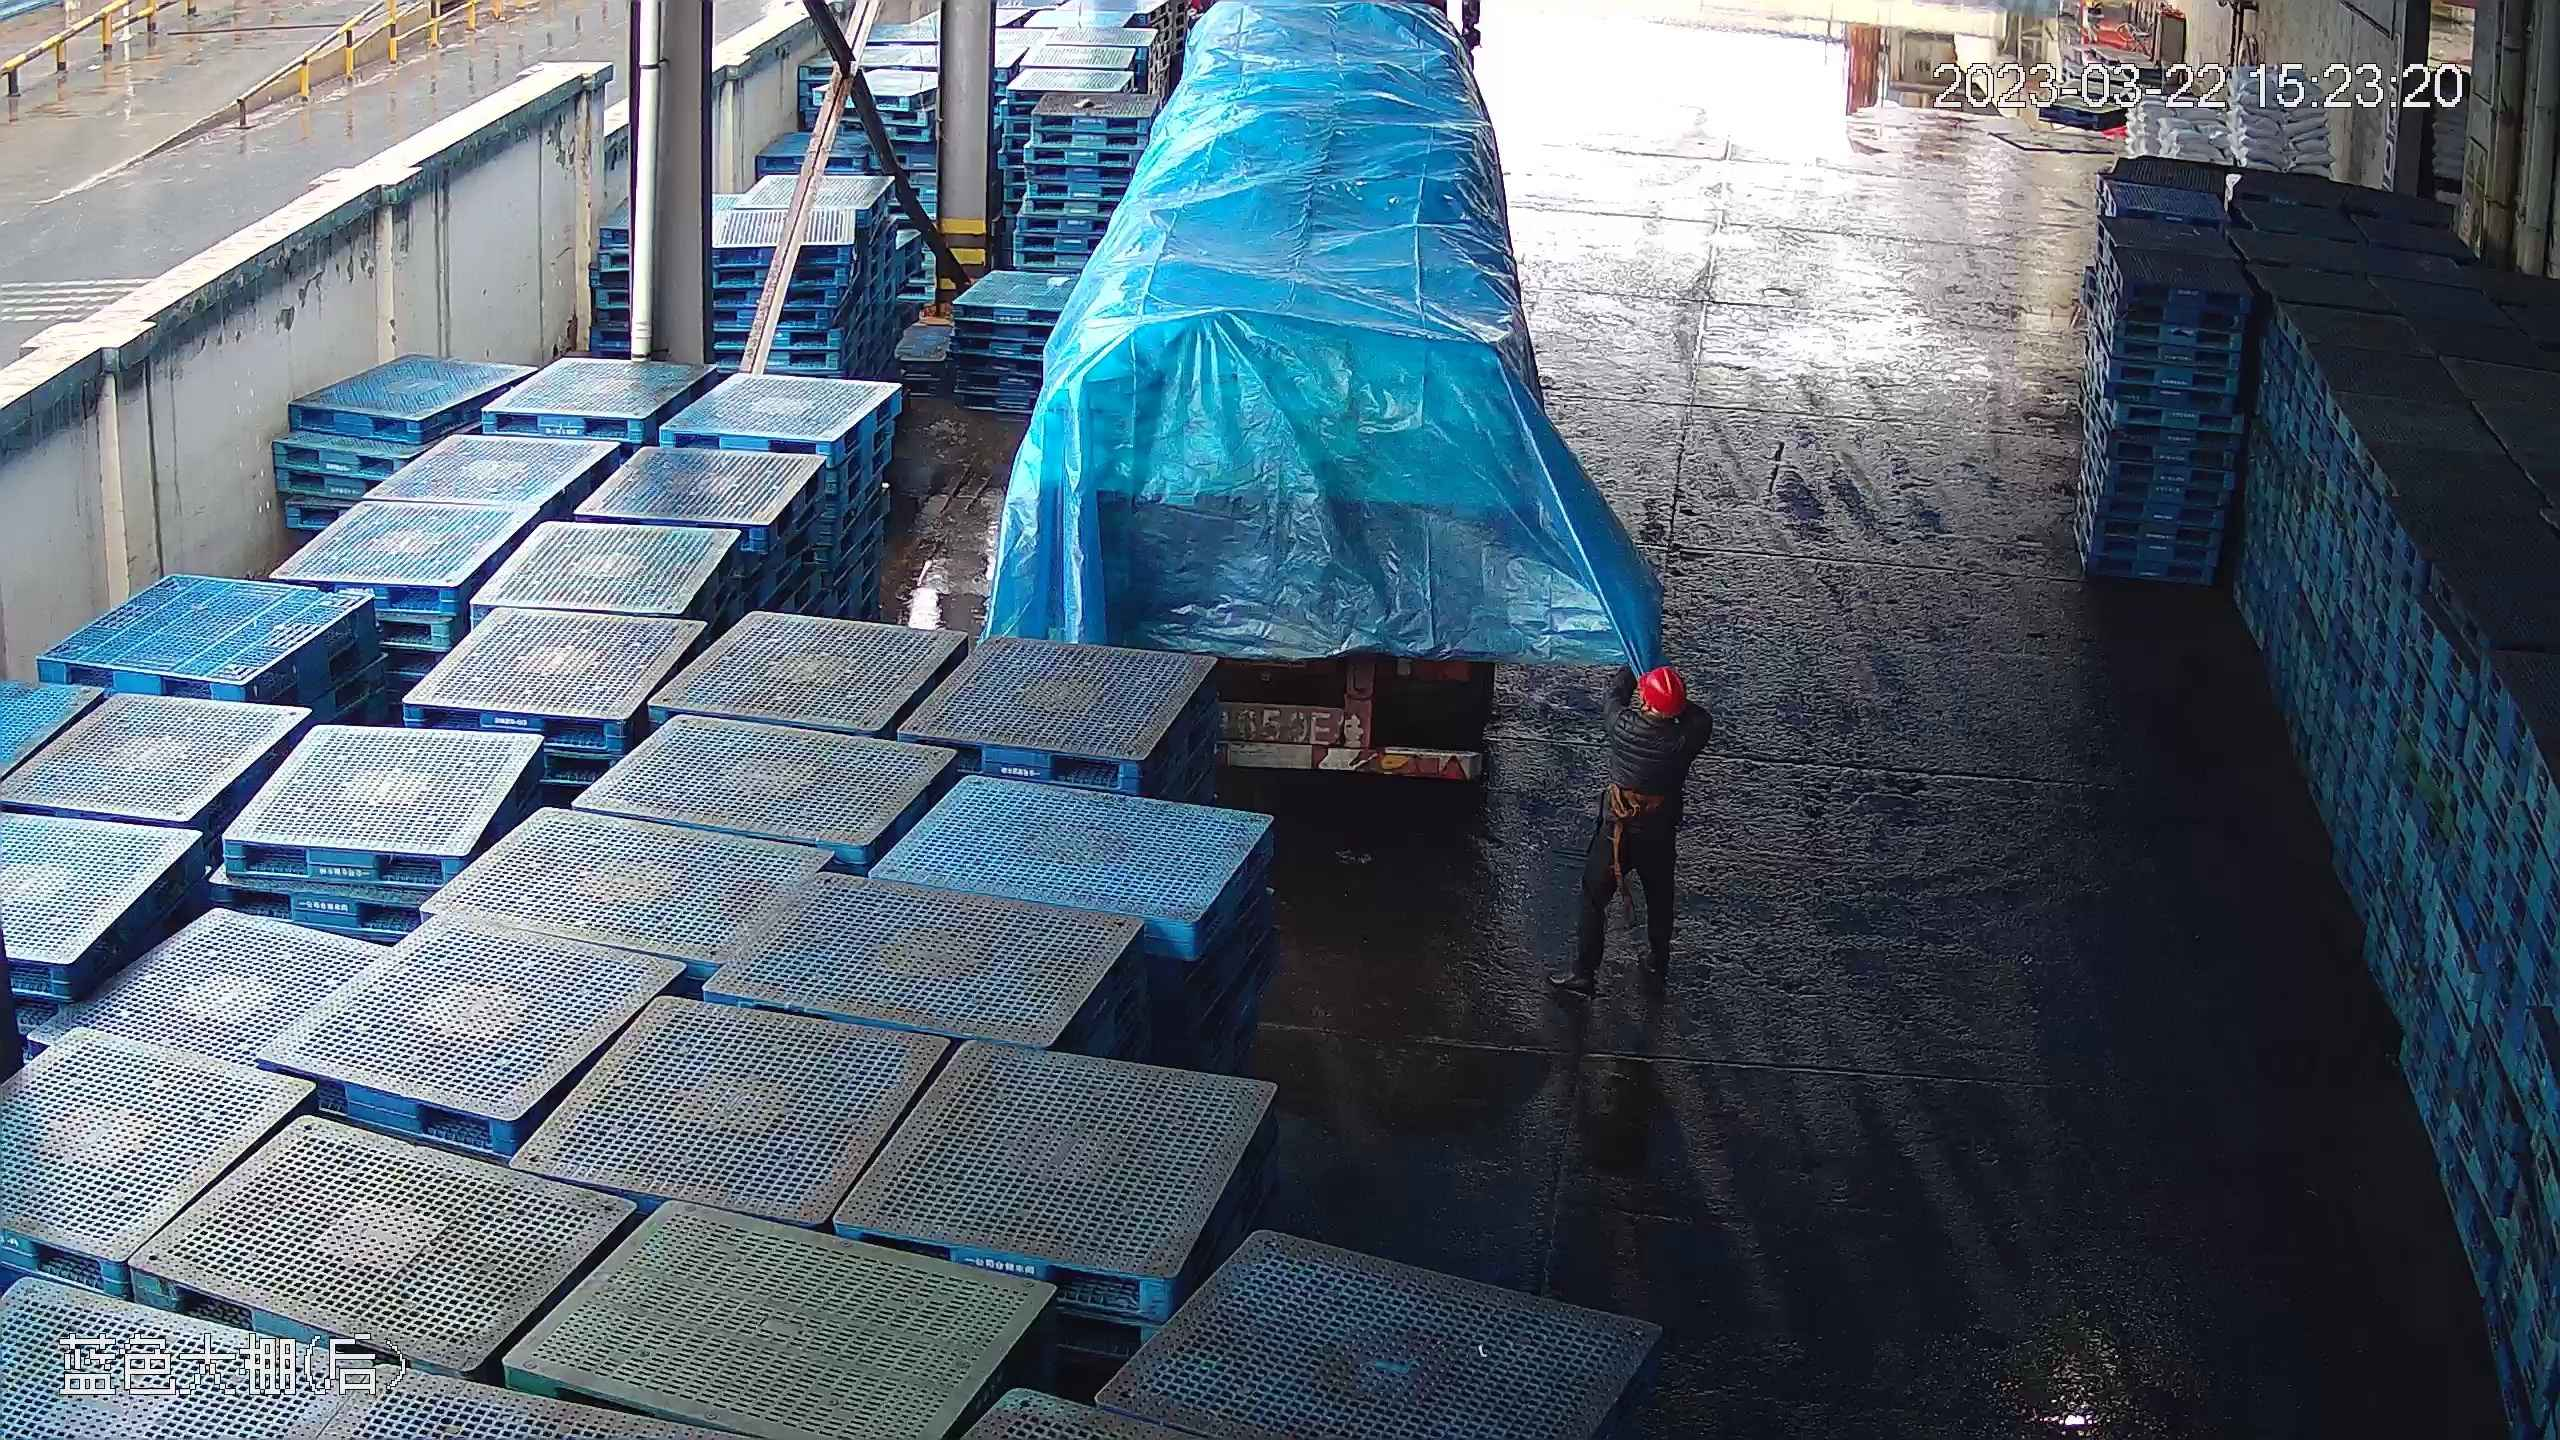head: (1616, 663, 1703, 763)
helmet: (1617, 663, 1701, 760), (1634, 662, 1686, 711)
people: (1579, 658, 1710, 994)
truck: (926, 0, 1665, 789)
